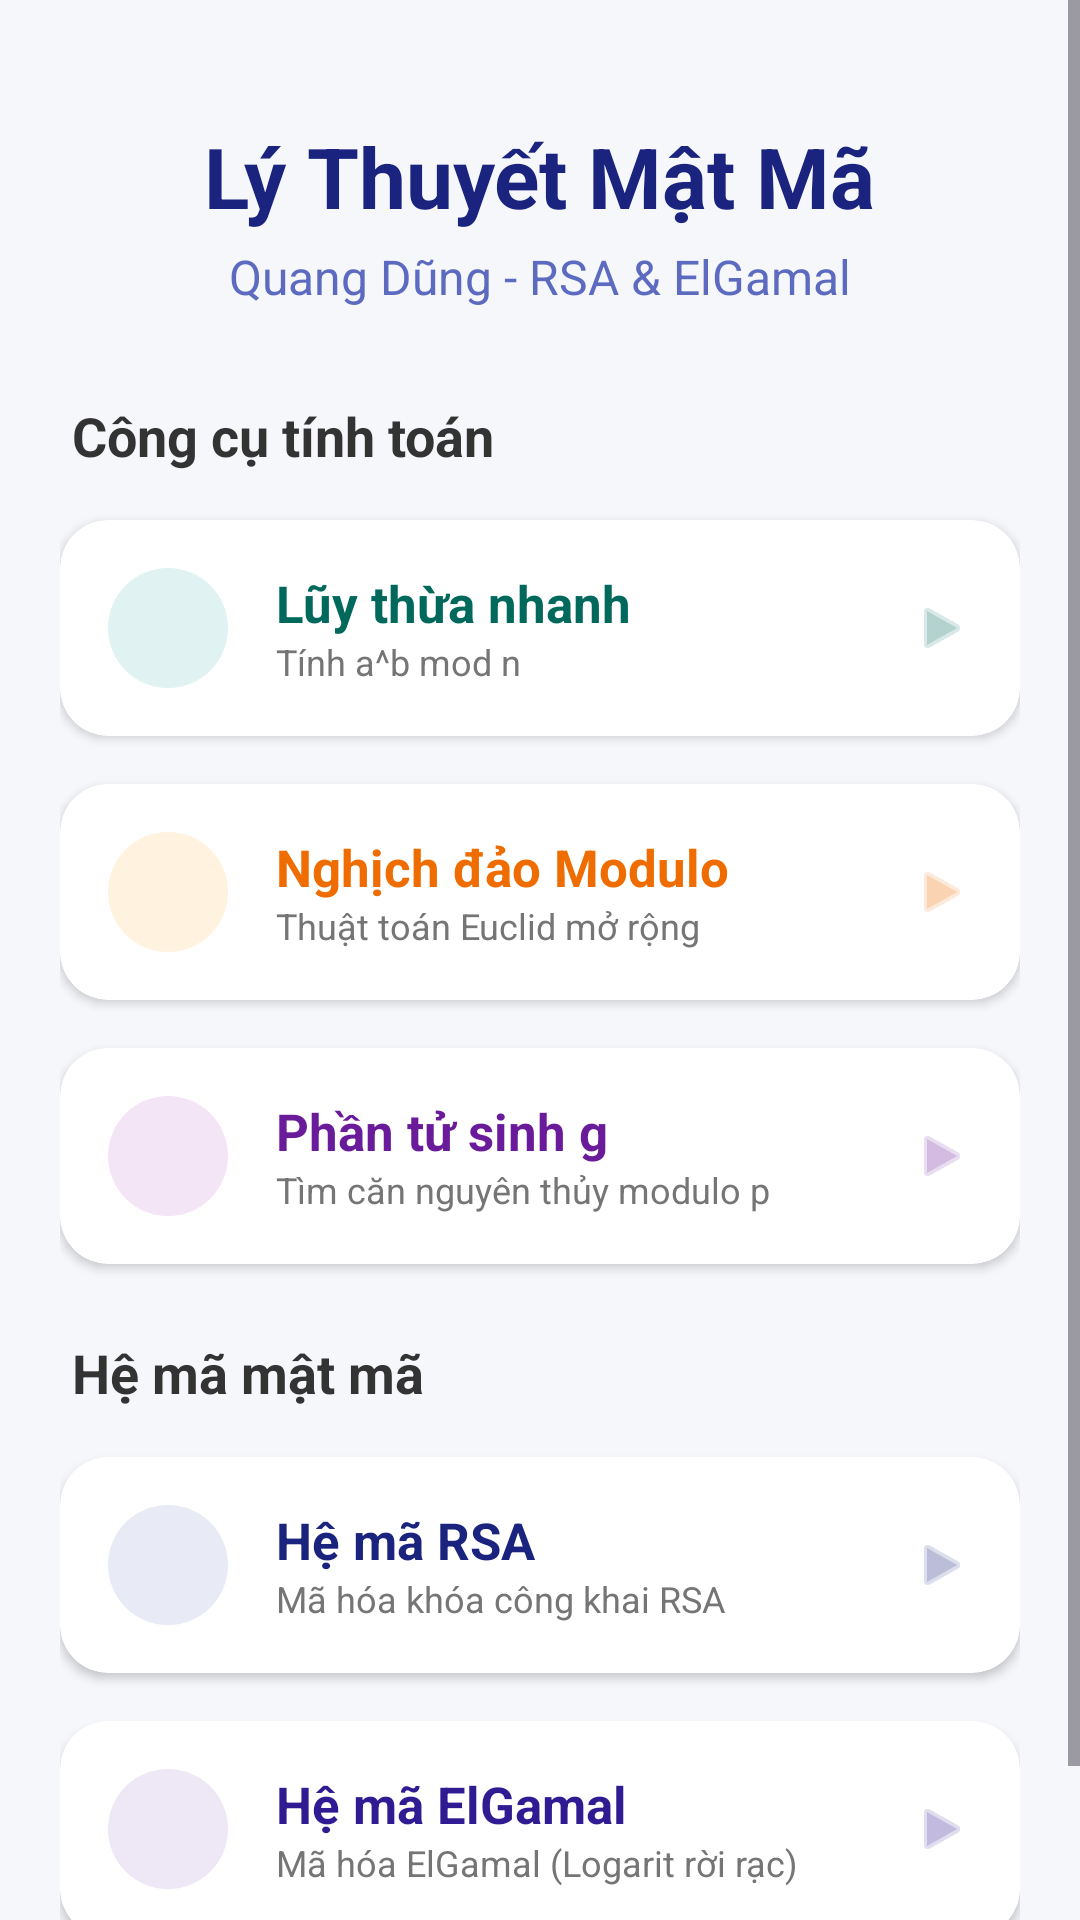

Icons on this 1080×1920 Android screen, each with the point to tap as point (x, y):
play: point (942, 628), point (942, 892), point (942, 1156), point (942, 1565), point (942, 1829)
